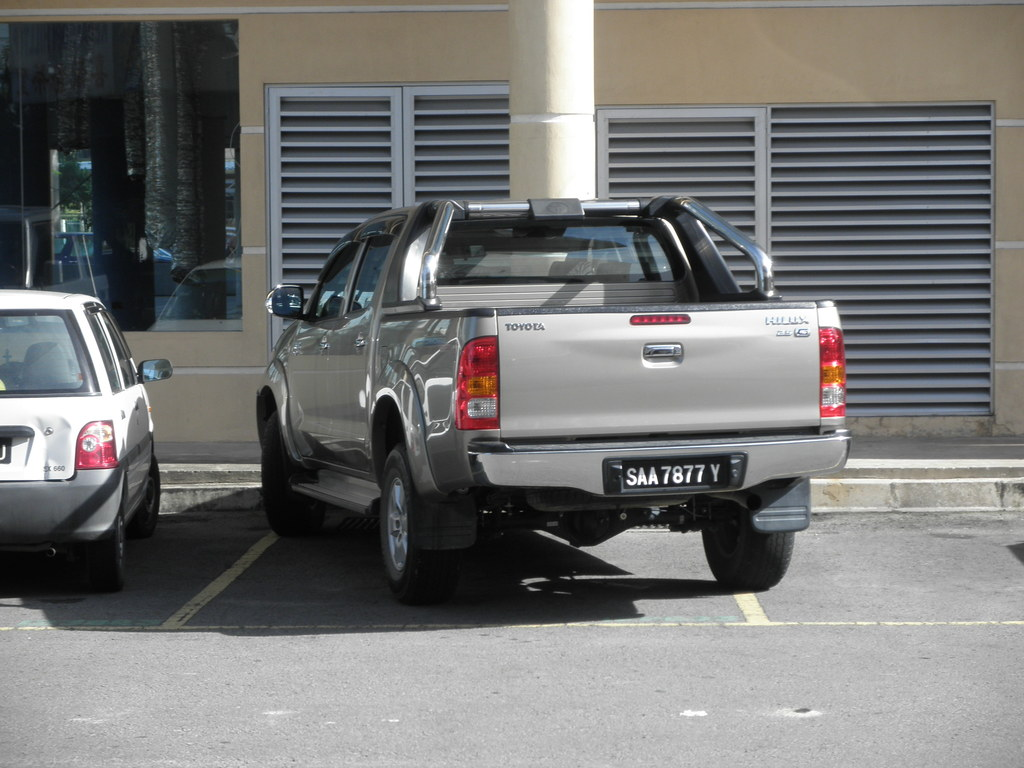license plate: (620, 456, 730, 491)
